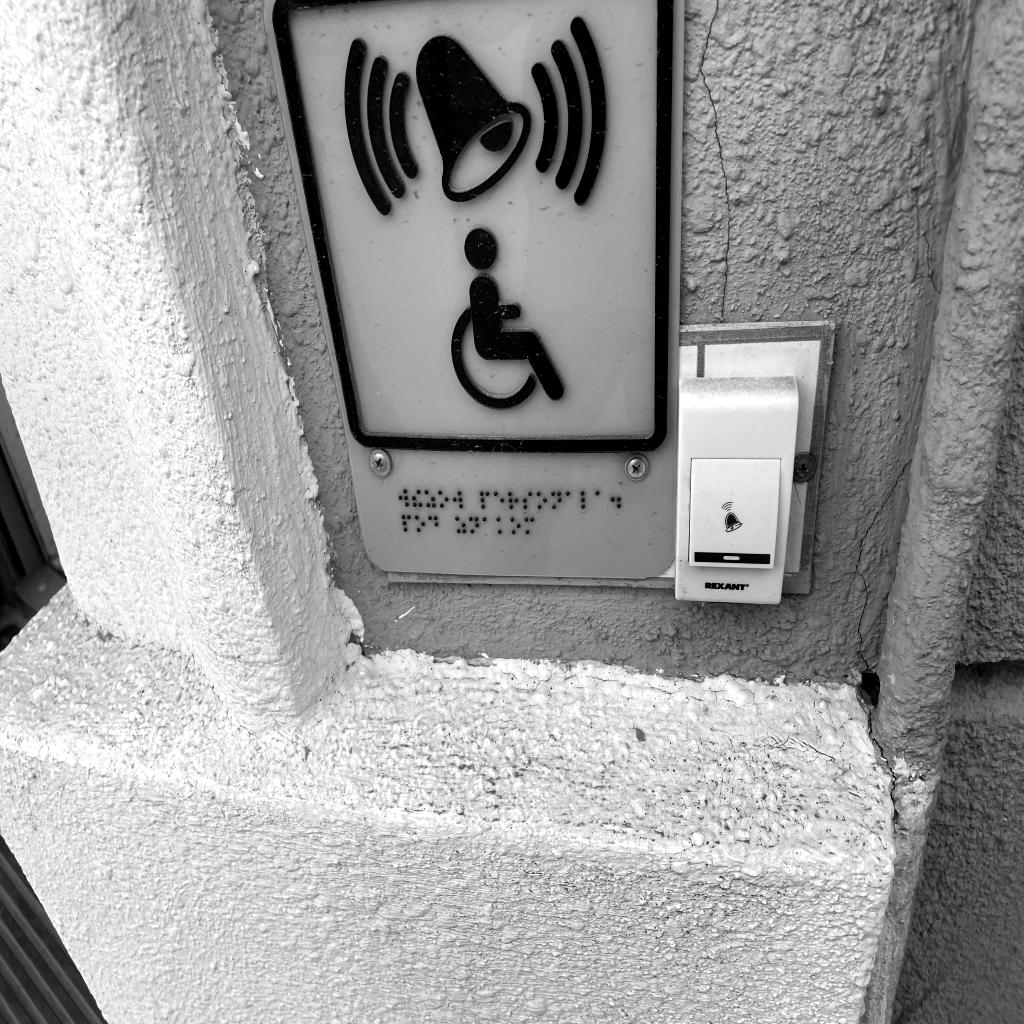_n: (551, 491, 561, 509), (469, 516, 479, 534)
a: (595, 490, 605, 509), (566, 491, 576, 509), (482, 517, 492, 535)
d: (428, 515, 438, 535)
e: (493, 490, 504, 511)
ii: (412, 490, 422, 508)
k: (496, 517, 506, 535)
l: (581, 491, 591, 509)
m: (524, 517, 534, 534)
o: (536, 491, 547, 509), (438, 490, 448, 508), (511, 517, 521, 535), (415, 515, 425, 532)
p: (479, 491, 490, 509), (402, 515, 411, 533)
r: (508, 491, 519, 510)
s: (523, 491, 533, 510)
tochka: (610, 489, 621, 508)
v: (452, 490, 463, 509), (399, 488, 409, 507)
z: (424, 490, 435, 508), (455, 516, 466, 534)
